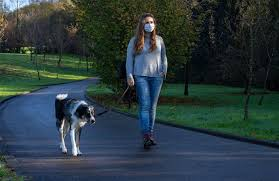dog: (68, 102, 106, 130)
person: (134, 9, 164, 40)
